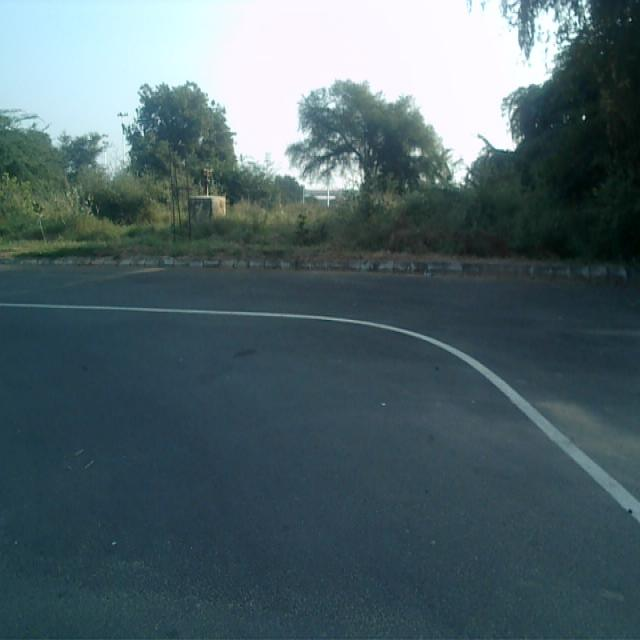lane: (1, 309, 640, 640)
